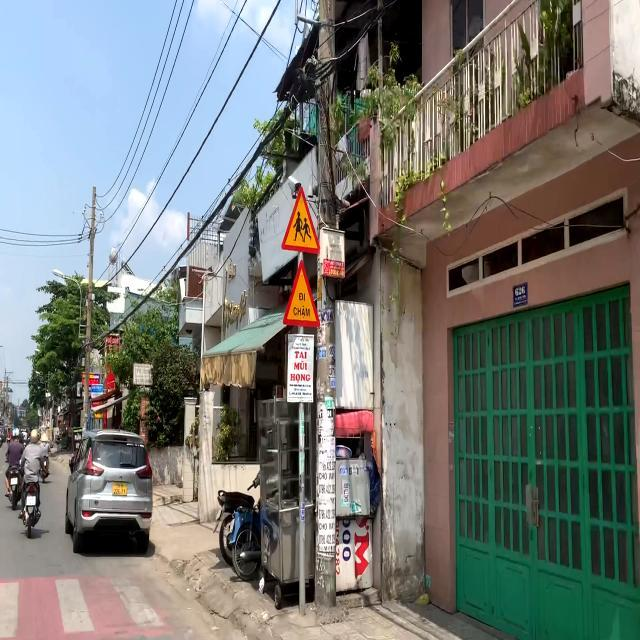W-225: (282, 187, 320, 253)
W-245a: (283, 260, 319, 328)
